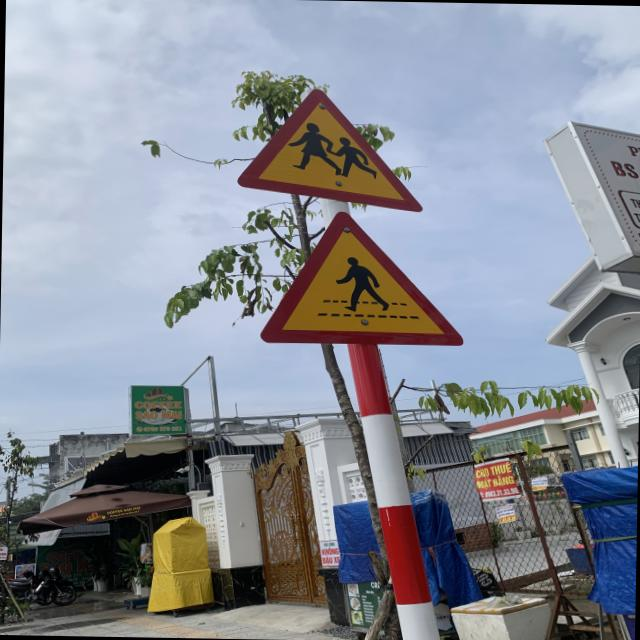Duong_Nguoi_Di_Bo_Sang_Ngang: (260, 206, 466, 346)
Vong_Xuyen: (237, 86, 422, 212)
